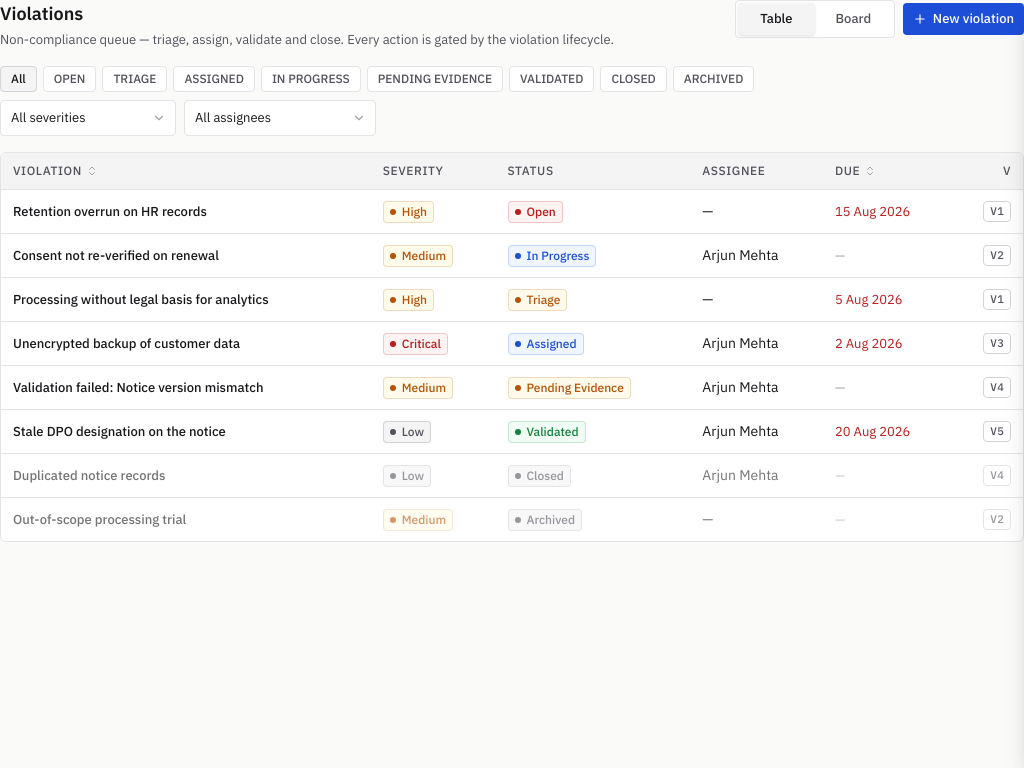
Test: ViolationsView (§9.8) › lists linked remediation tasks inside the violation drawer
Click the text "Retention overrun on HR records" at (110, 211), box [13,203,207,220]
(page scrolled)
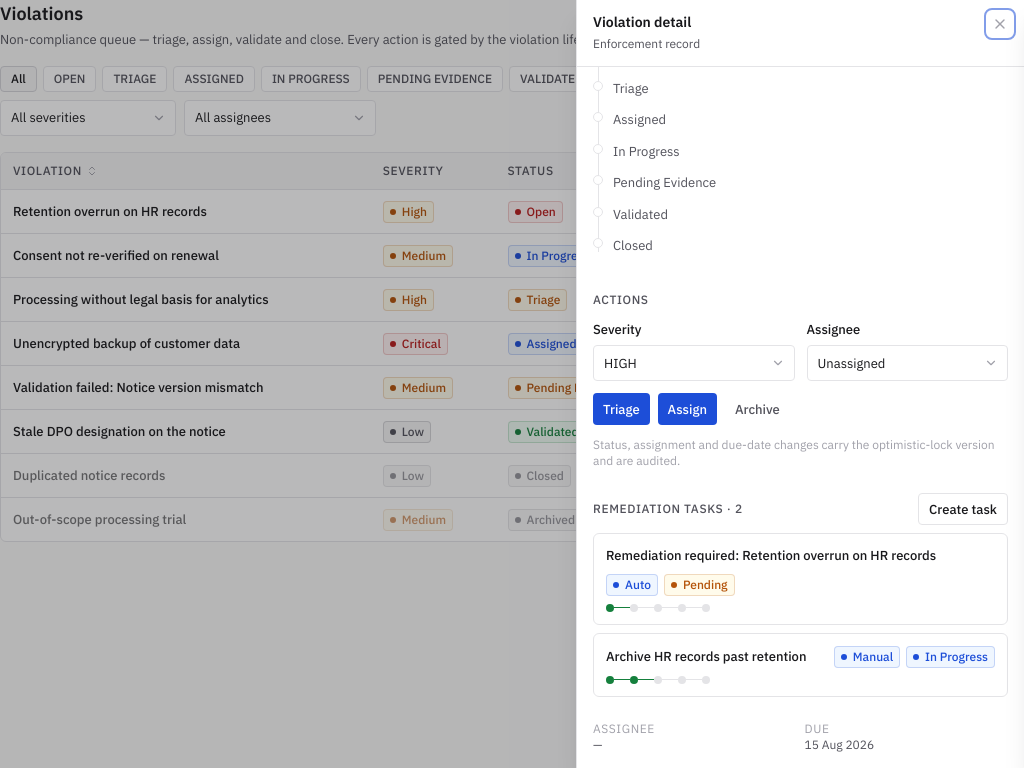
Check: the heading "Remediation tasks · 2" is shown, box [593,501,743,517]
Check: the text "Remediation required: Retention overrun on HR records" is shown, box [606,546,936,566]
Check: the text "Archive HR records past retention" is shown, box [606,647,806,666]
